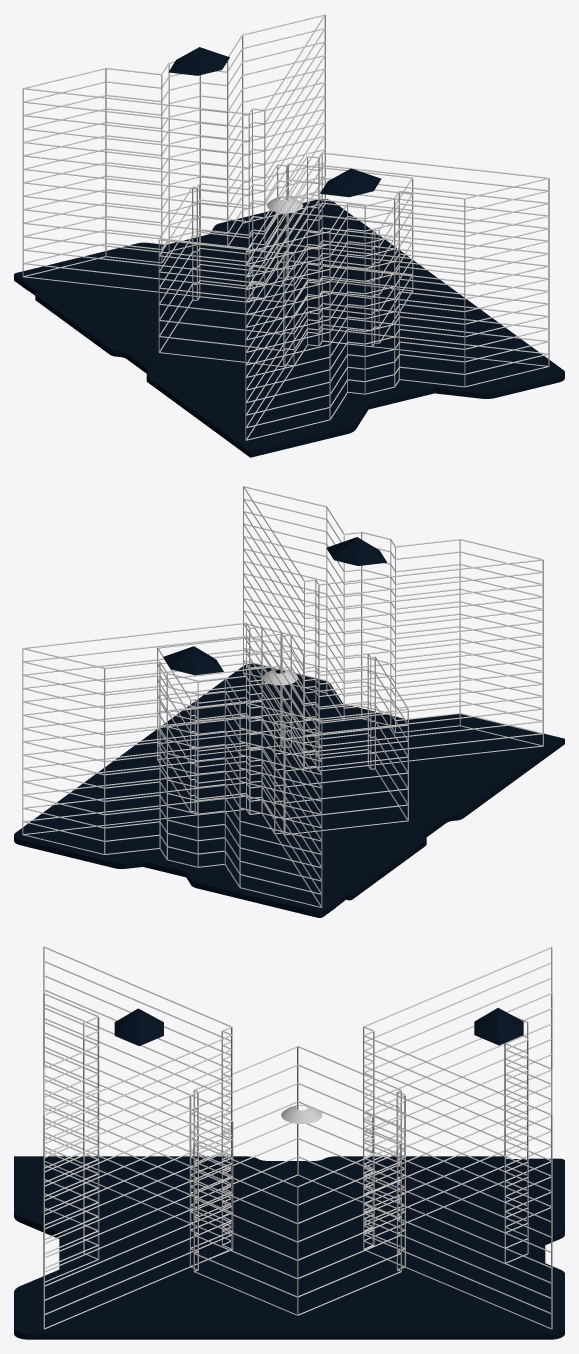
File: wireframe.glb
The picture shows the model from 3 angles, top to bottom: view 1: azimuth 30°, elevation 25°; view 2: azimuth 150°, elevation 25°; view 3: azimuth 270°, elevation 25°; orthographic projection. The views are drawn at different scales.
Parts seen in each view (by area): view 1: platform001, B????, A????, C????, Atop, Btop; view 2: platform001, B????, A????, C????, Atop, Btop; view 3: platform001, B????, A????, C????, Atop, Btop, Ctop.
Boxes of the visible parts, box(x1,y1,x2,y2) form: platform001: box(14, 199, 564, 457); B????: box(245, 152, 549, 440); A????: box(22, 14, 325, 302); C????: box(158, 163, 413, 366); Atop: box(168, 47, 229, 75); Btop: box(320, 168, 381, 197); platform001: box(14, 663, 564, 917); B????: box(243, 486, 543, 771); A????: box(22, 622, 322, 907); C????: box(157, 633, 408, 835); Atop: box(163, 646, 223, 675); Btop: box(326, 537, 386, 565); platform001: box(14, 1156, 564, 1339); B????: box(43, 946, 232, 1329); A????: box(363, 946, 552, 1329); C????: box(189, 1046, 405, 1315); Atop: box(474, 1008, 523, 1045); Btop: box(114, 1008, 163, 1046); Ctop: box(281, 1105, 322, 1123).
Bounding box in the file's own units: 5.32 × 3.43 × 7.
